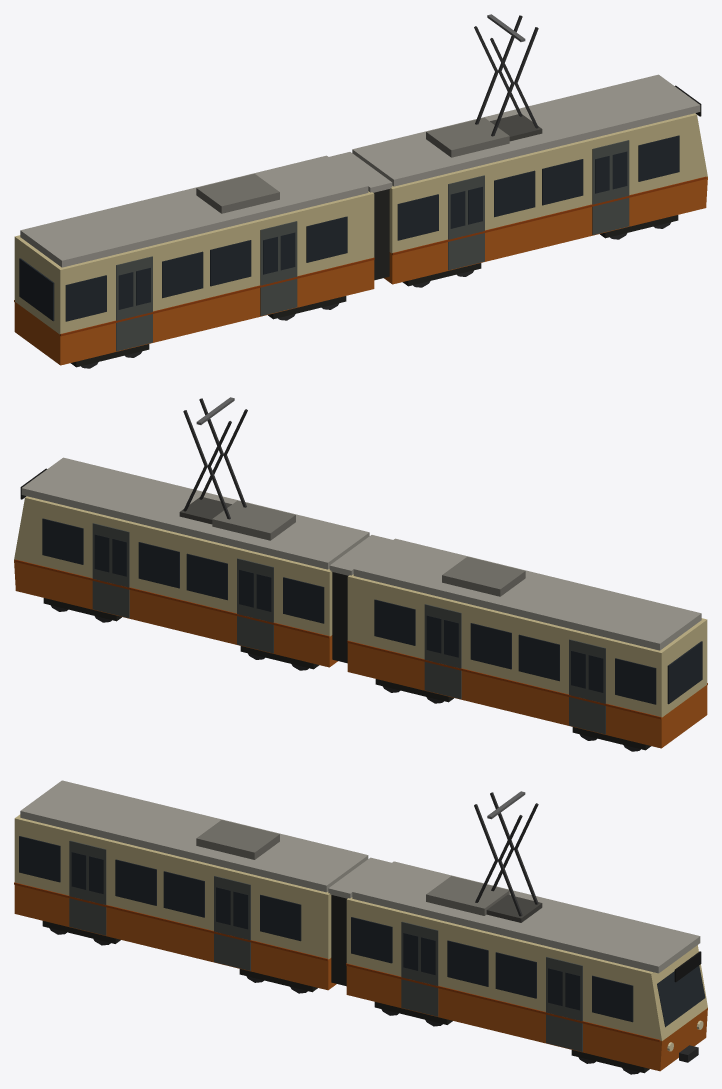
The model's file is tatra_kt4d.glb.
3 renders of one model, top to bottom at view 1: azimuth 30°, elevation 25°; view 2: azimuth 150°, elevation 25°; view 3: azimuth 330°, elevation 25°, orthographic.
Parts seen in each view (by area): view 1: SectionB, SectionA, Pantograph, Joint; view 2: SectionB, SectionA, Pantograph, Joint; view 3: SectionA, SectionB, Pantograph, Joint.
Part boxes in pixels (<box>): SectionB: <box>14,155,374,368</box>; SectionA: <box>352,74,707,287</box>; Pantograph: <box>474,14,542,141</box>; Joint: <box>329,152,392,280</box>; SectionB: <box>347,538,707,751</box>; SectionA: <box>14,457,369,670</box>; Pantograph: <box>179,397,247,524</box>; Joint: <box>329,535,392,663</box>; SectionA: <box>346,861,707,1074</box>; SectionB: <box>14,780,368,993</box>; Pantograph: <box>474,791,542,922</box>; Joint: <box>328,857,391,986</box>.
Size of the model in its own units: 18.01 by 5.88 by 2.24.
